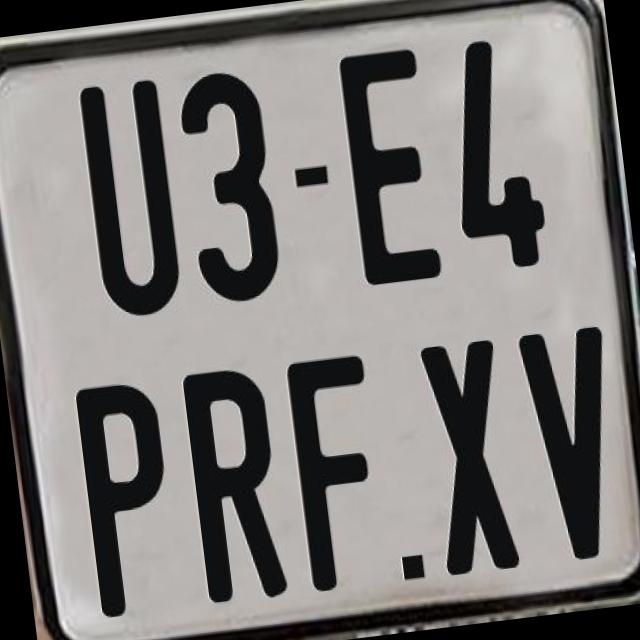3: (174, 65, 284, 305)
4: (436, 34, 550, 275)
E: (336, 44, 444, 283)
F: (280, 348, 390, 588)
P: (75, 379, 185, 619)
R: (180, 366, 292, 611)
U: (76, 75, 188, 322)
V: (514, 322, 626, 560)
X: (418, 336, 520, 577)
